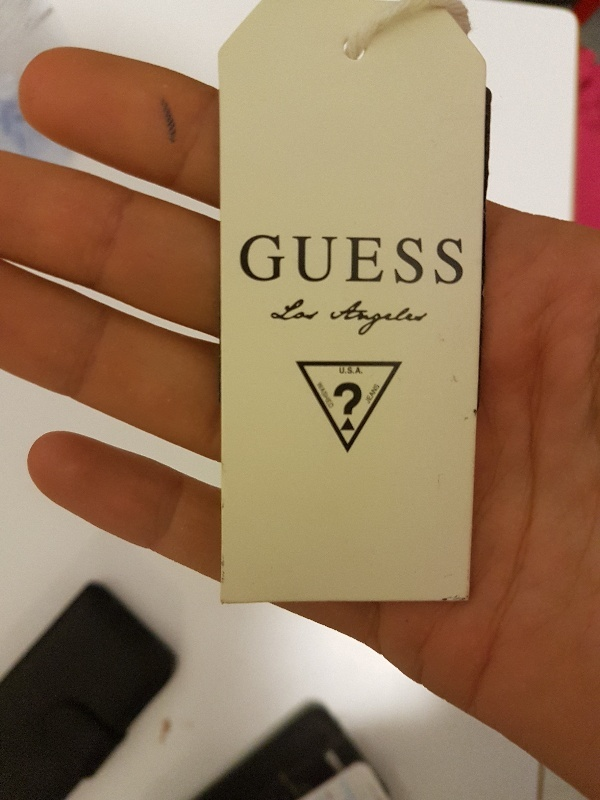text: (257, 233, 272, 286), (273, 233, 288, 286), (289, 233, 304, 286), (305, 233, 320, 286), (321, 233, 336, 286), (337, 233, 352, 286), (353, 233, 368, 286), (369, 233, 384, 286), (385, 233, 400, 286), (401, 233, 416, 286), (417, 233, 432, 286), (433, 233, 448, 286), (449, 233, 464, 286), (242, 233, 256, 286), (337, 382, 352, 431), (321, 378, 337, 412), (353, 300, 368, 336), (369, 300, 384, 336), (385, 300, 400, 336), (401, 300, 416, 336), (417, 300, 432, 336), (353, 382, 363, 431), (289, 300, 304, 324), (305, 300, 320, 324), (342, 300, 352, 336), (369, 382, 381, 406), (433, 300, 439, 336), (321, 300, 327, 324), (339, 366, 352, 375), (334, 382, 336, 431), (284, 300, 288, 324), (364, 382, 368, 406), (353, 366, 363, 375)
